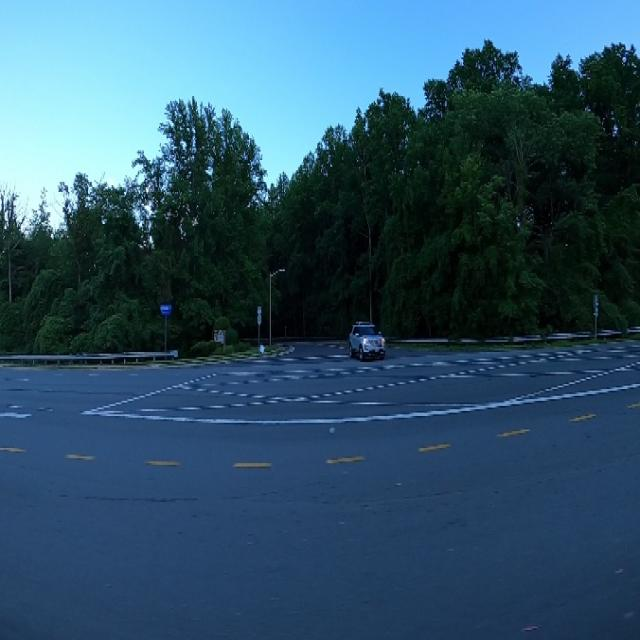cars: (345, 310, 393, 373)
